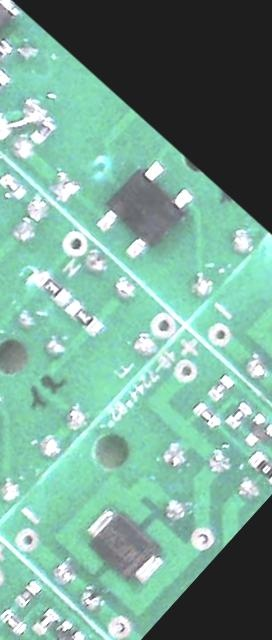chip-resistor: (63, 297, 103, 336), (34, 270, 72, 307), (245, 448, 272, 486), (223, 399, 253, 429), (28, 117, 57, 146), (0, 170, 28, 200), (191, 400, 221, 428), (31, 606, 58, 636), (207, 372, 235, 400), (13, 578, 40, 606), (0, 608, 27, 636)
diode: (81, 501, 170, 587)
ic: (88, 154, 197, 264)
transistor: (237, 410, 272, 451), (44, 617, 84, 640)
